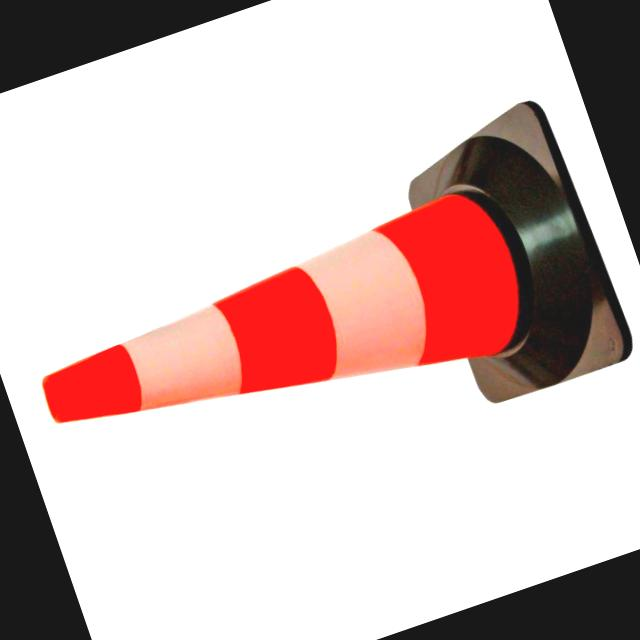cone: (0, 88, 640, 551)
